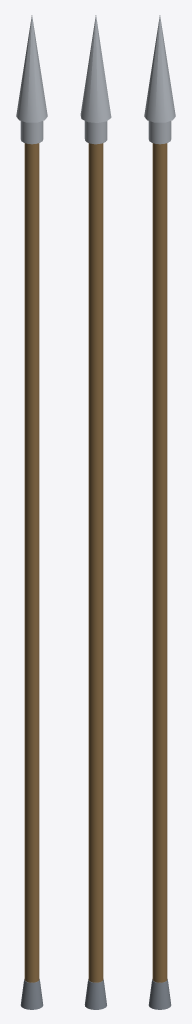
The model's file is spear.glb.
The picture shows the model from 3 angles, left to right: view 1: azimuth 90°, elevation 25°; view 2: azimuth 150°, elevation 25°; view 3: azimuth 270°, elevation 25°; orthographic projection.
Parts seen in each view (by area): view 1: shaft, head, buttcap, collar; view 2: shaft, head, buttcap, collar; view 3: shaft, head, buttcap, collar.
Part boxes in pixels (x1,y1,x2,y2): shaft: [24, 143, 39, 982]; head: [16, 15, 47, 122]; buttcap: [20, 979, 43, 1009]; collar: [20, 121, 43, 144]; shaft: [88, 143, 103, 982]; head: [80, 15, 111, 122]; buttcap: [84, 979, 106, 1009]; collar: [84, 121, 107, 144]; shaft: [152, 143, 167, 982]; head: [144, 15, 175, 122]; buttcap: [148, 979, 171, 1009]; collar: [148, 121, 171, 144].
Bounding box in the file's own units: 0.0533 × 1.94 × 0.056.
